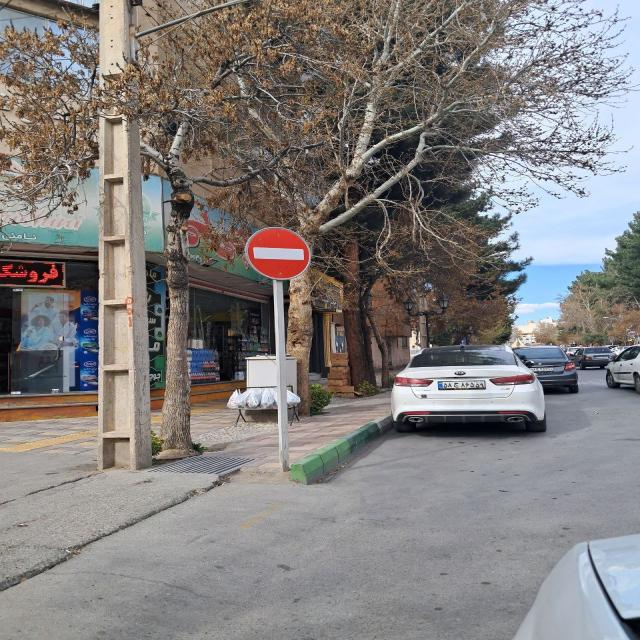no entry: (250, 224, 314, 275)
